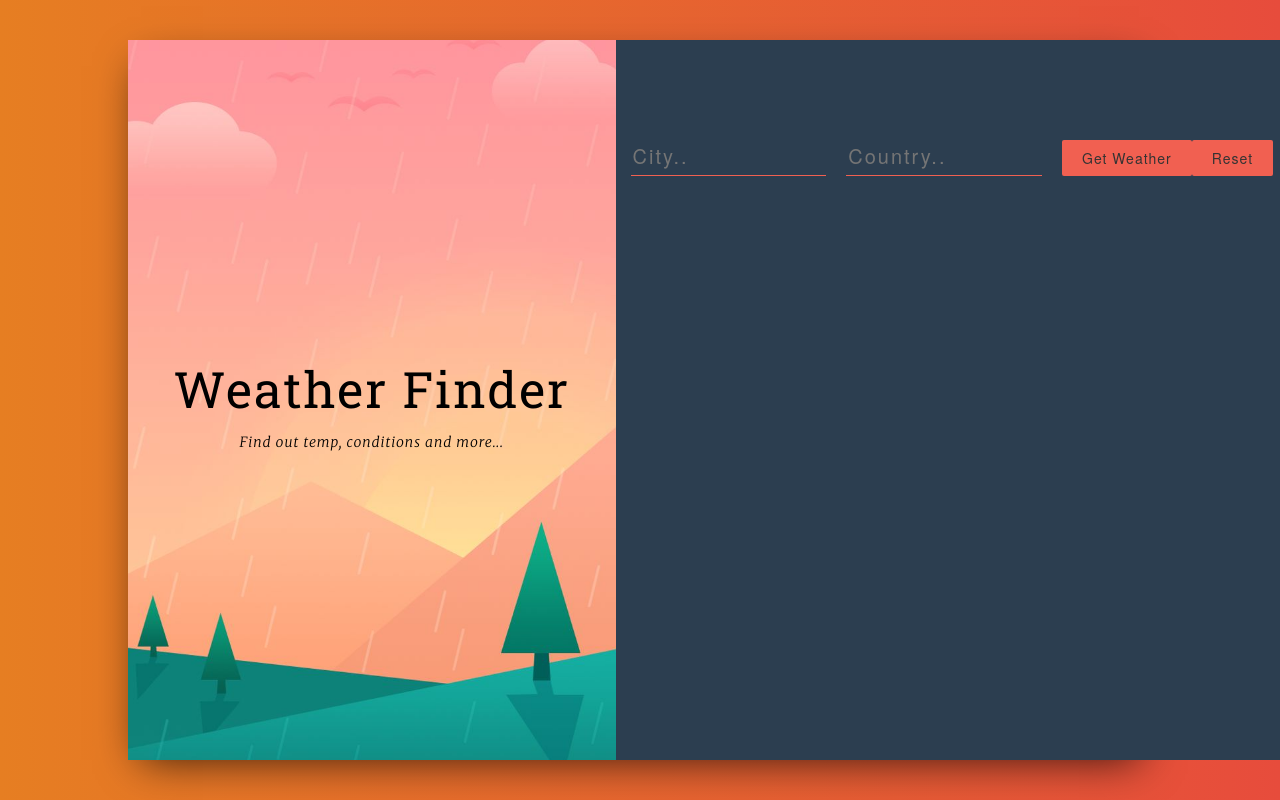
Test case: Weather app › Form › Reset button to clear form
The image size is (1280, 800).
Type "London" into the field with id "city-name-input" at (728, 158), box [630,141,826,176]
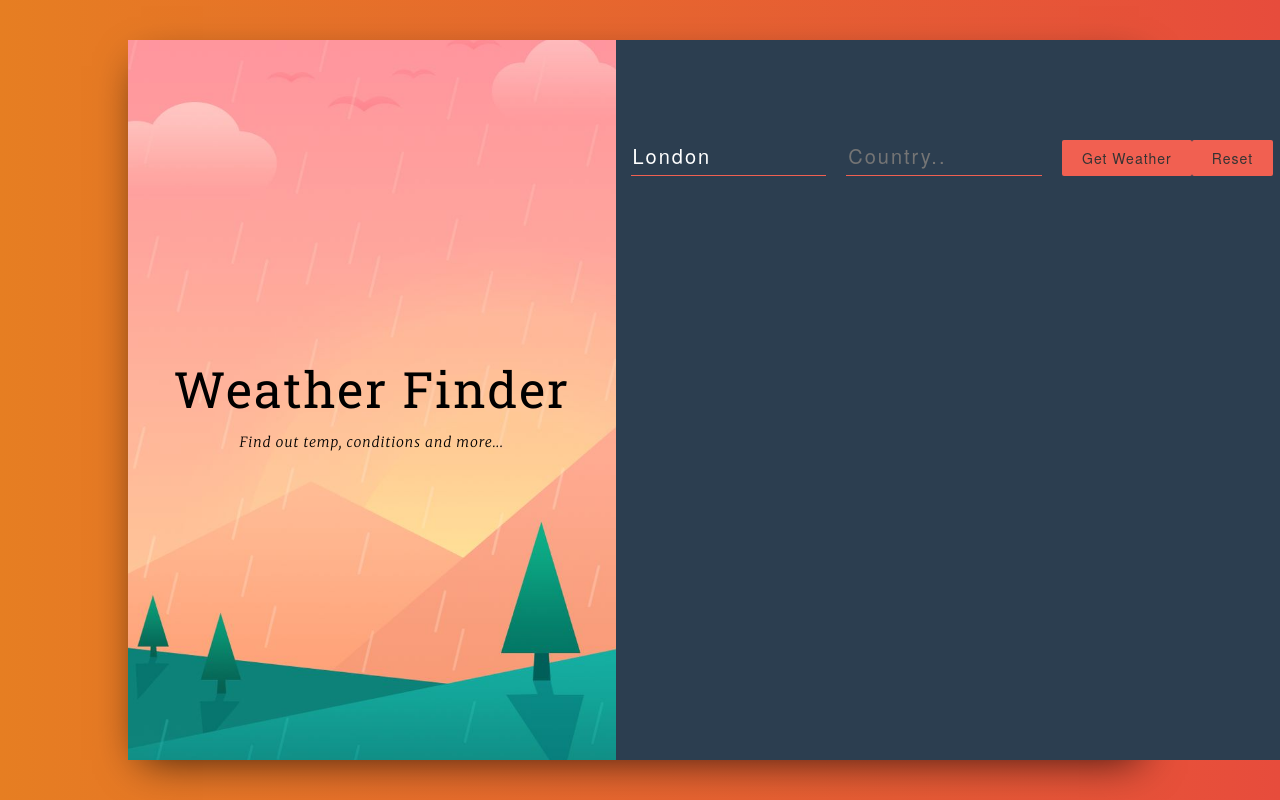
Type "UK" into the field with id "country-name-input" at (944, 158), box [846,141,1042,176]
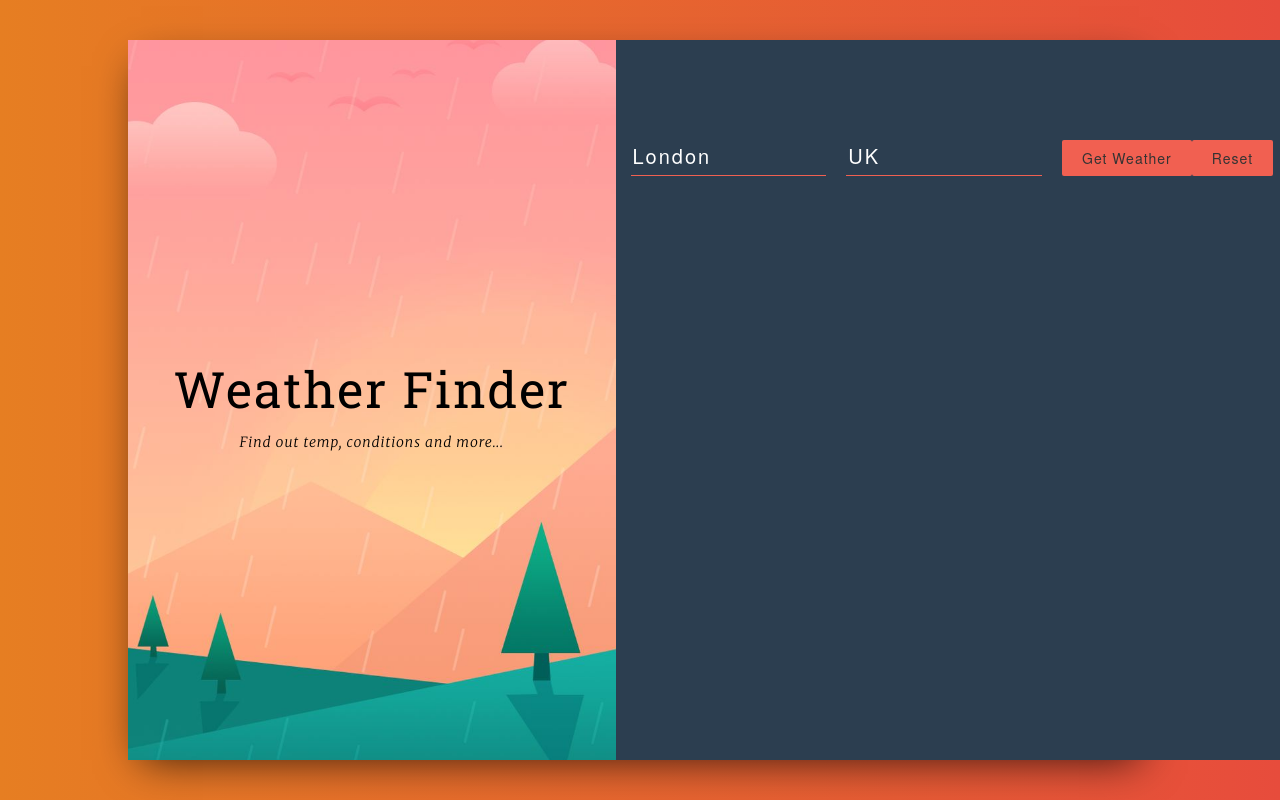
Click the button with id "resetButton" at (1232, 158), box [1192,140,1273,176]
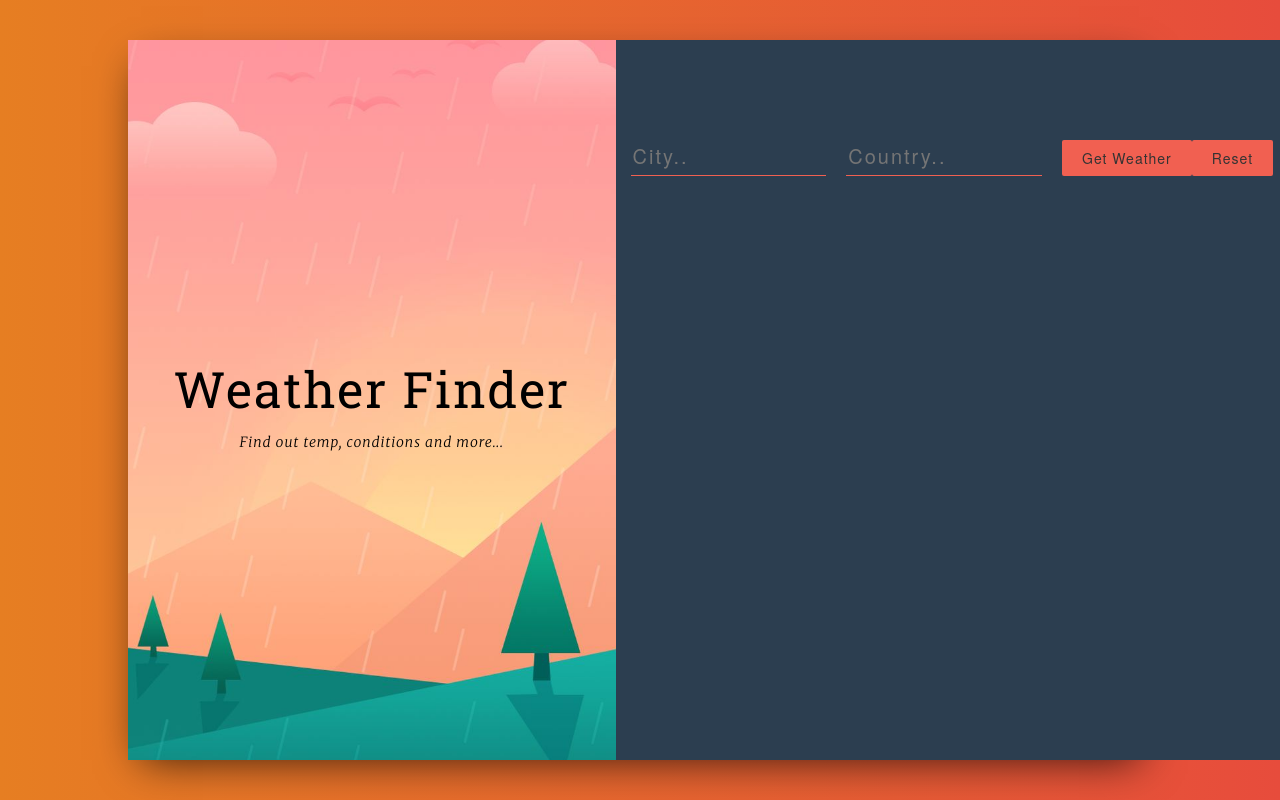
Expected: the field with id "city-name-input" is empty, [630,141,826,176]
Expected: the field with id "country-name-input" is empty, [846,141,1042,176]
